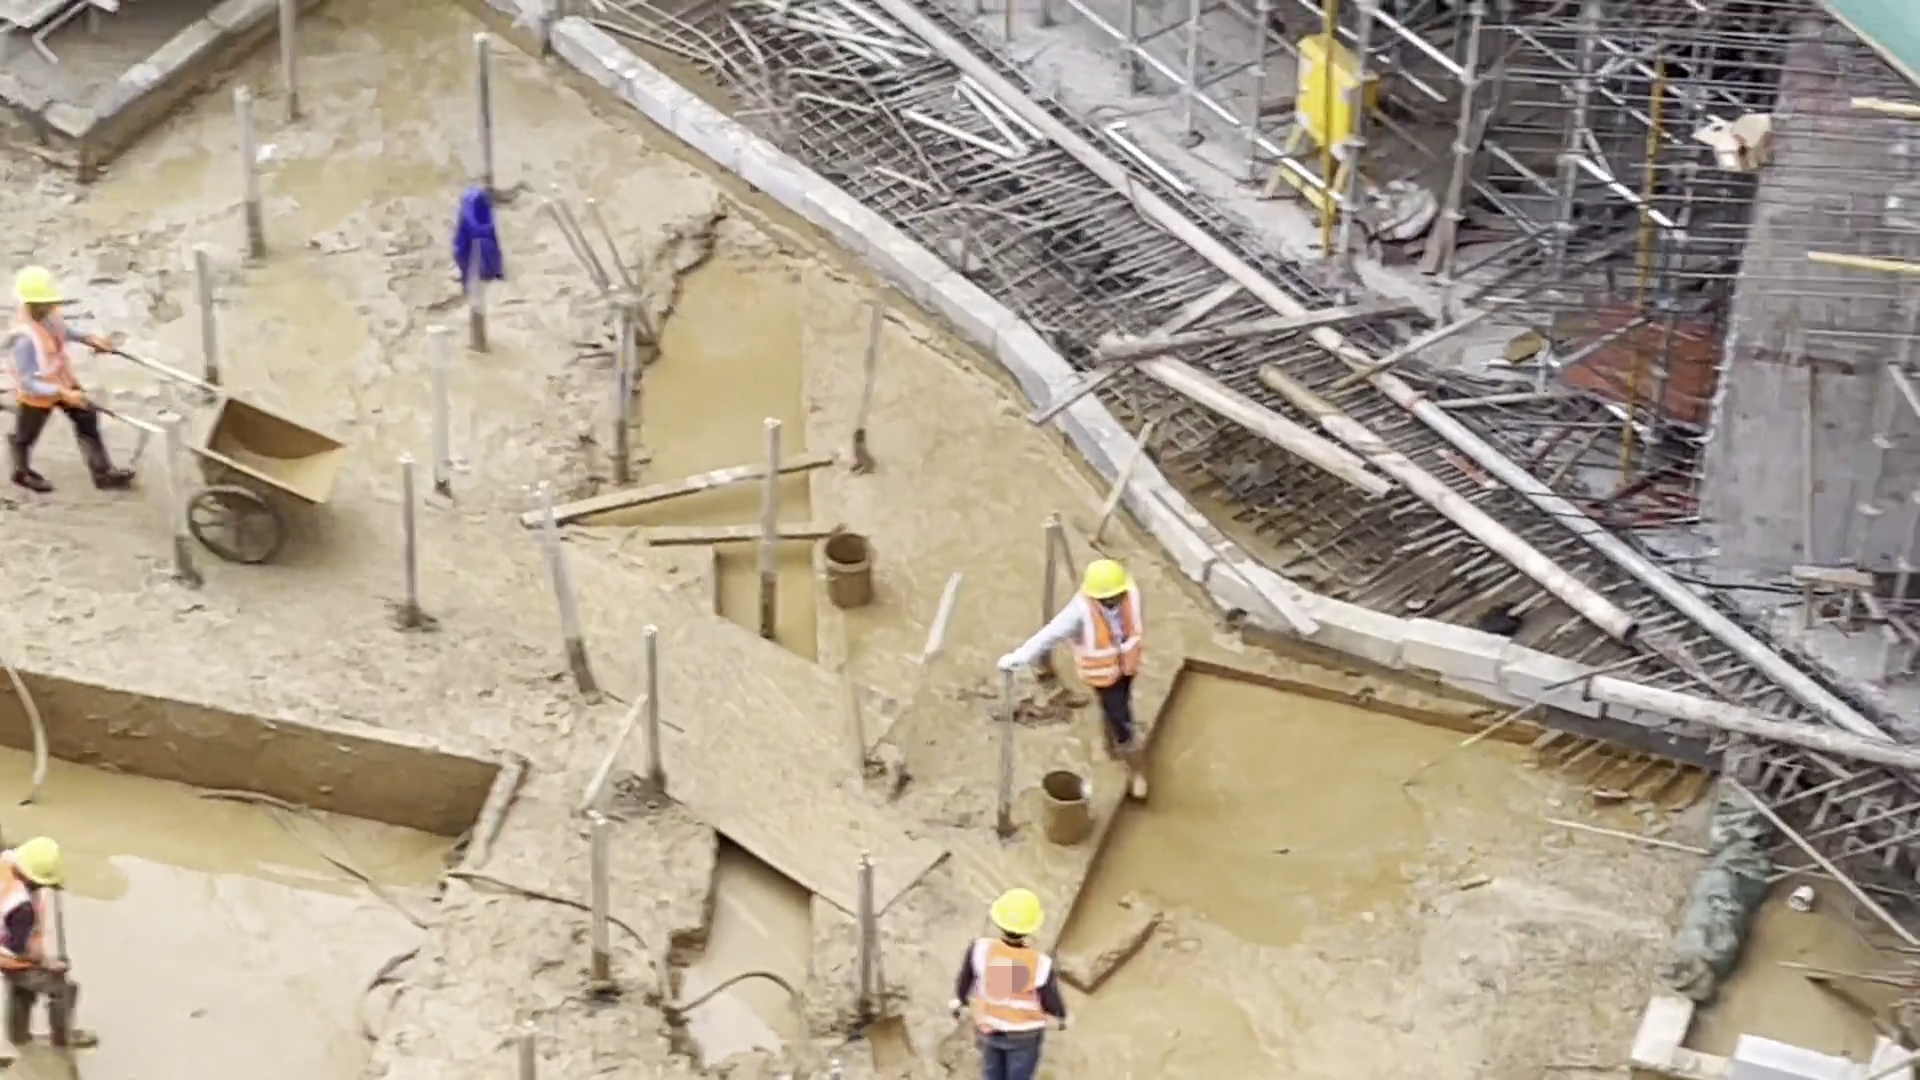helmet: (986, 883, 1044, 945), (17, 834, 63, 883), (1085, 557, 1129, 600), (17, 263, 58, 305)
person: (10, 256, 133, 494), (999, 558, 1151, 749), (1, 832, 99, 1048), (960, 886, 1066, 1080)
vest: (971, 935, 1052, 1038), (10, 304, 77, 413), (1078, 597, 1141, 687), (1, 875, 48, 977)
